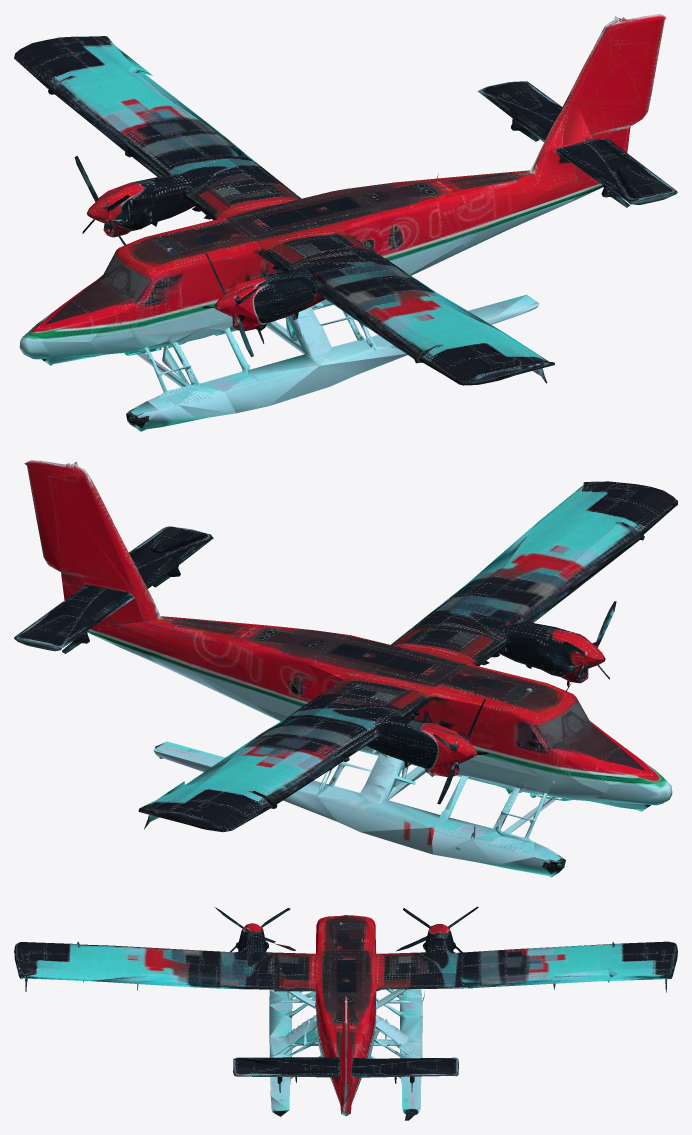
The picture shows the model from 3 angles, top to bottom: view 1: azimuth 30°, elevation 25°; view 2: azimuth 150°, elevation 25°; view 3: azimuth 270°, elevation 25°; orthographic projection. The views are drawn at different scales.
Parts seen in each view (by area): view 1: Mesh_0; view 2: Mesh_0; view 3: Mesh_0.
Part boxes in pixels (x1,y1,x2,y2): Mesh_0: (14,14,677,431); Mesh_0: (14,460,677,877); Mesh_0: (14,906,677,1120).
Bounding box in the file's own units: 1.55 × 0.5997 × 1.9.
1 material, 1 textured.
